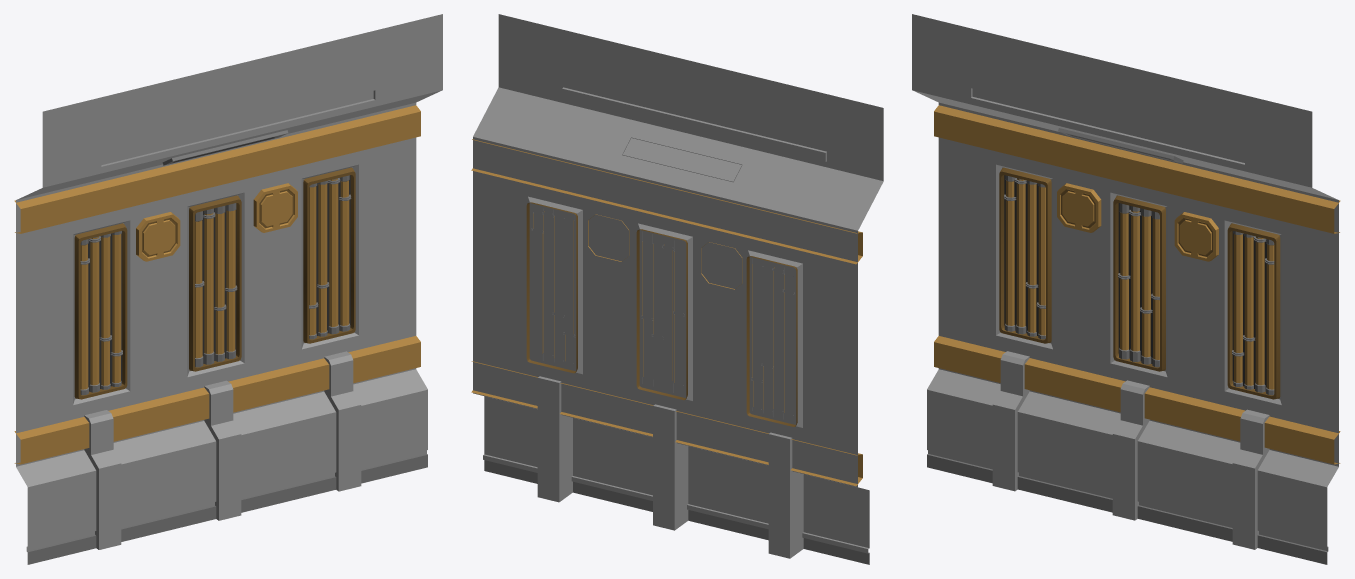
Rendered from wall-2-61c6023496.glb.
3 renders of one model, left to right at view 1: azimuth 30°, elevation 25°; view 2: azimuth 150°, elevation 25°; view 3: azimuth 330°, elevation 25°, orthographic. The views are drawn at different scales.
Parts seen in each view (by area): view 1: Wall_2.obj; view 2: Wall_2.obj; view 3: Wall_2.obj.
Boxes of the visible parts, <box> form: Wall_2.obj: <box>14,14,442,564</box>; Wall_2.obj: <box>471,14,883,564</box>; Wall_2.obj: <box>912,14,1340,564</box>.
Size of the model in its own units: 4 by 4.43 by 0.5334.
